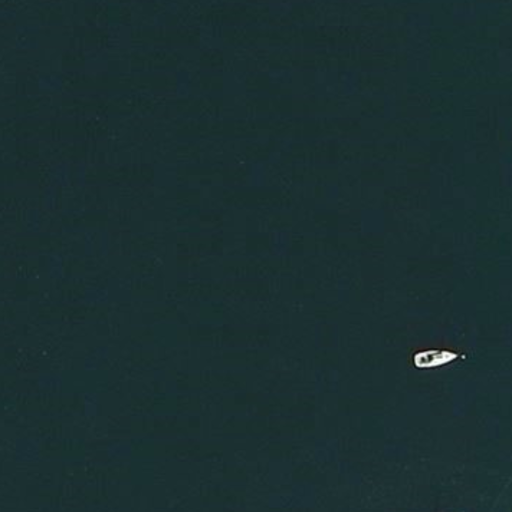ship: (411, 345, 467, 374)
